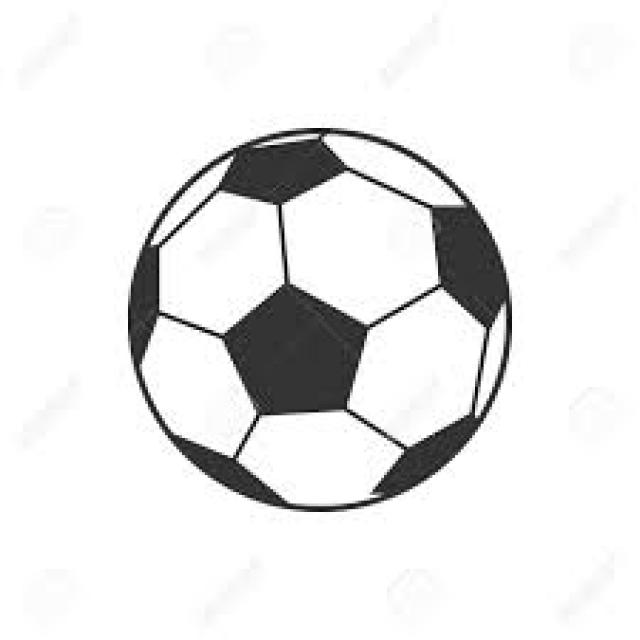ball: (130, 127, 517, 514)
